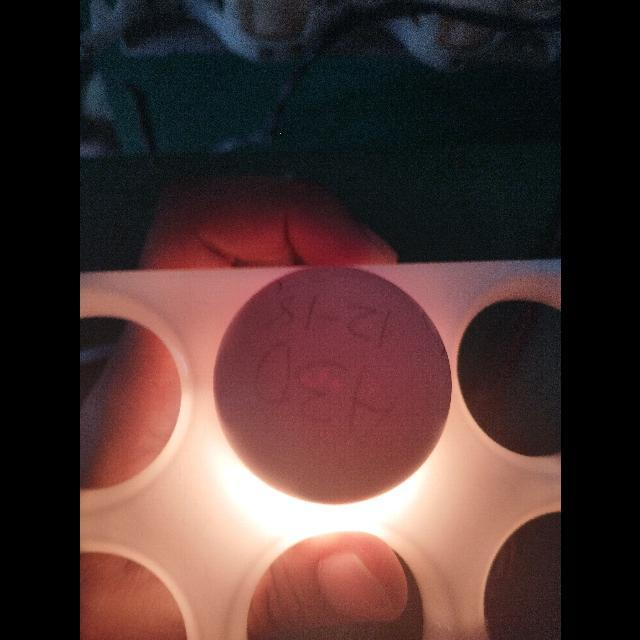Fertile: (211, 264, 454, 508)
